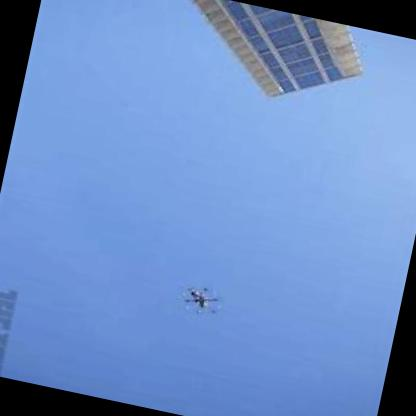drone: (171, 275, 229, 323)
